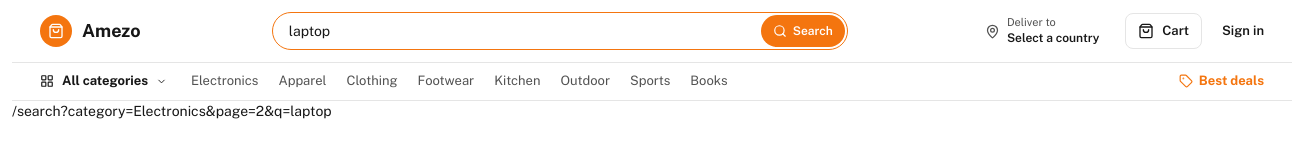
Test: SiteHeader › keeps the filters already applied when searching from /search
This screenshot has width=1292, height=160.
Replace the text in the field named "Search products" with "keyboard" at (523, 31), box [289,15,757,47]
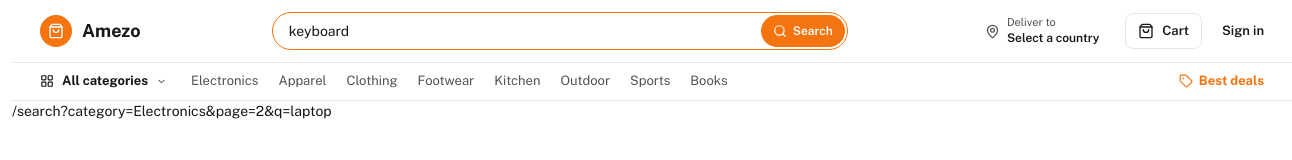
Click the button "Search" at (803, 31), box [761,15,845,47]
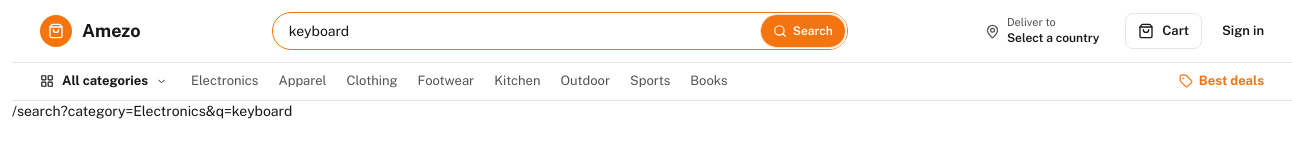
expect the text with test id "location" reads "/search?category=Electronics&q=keyboard": met, box [12,103,292,119]
